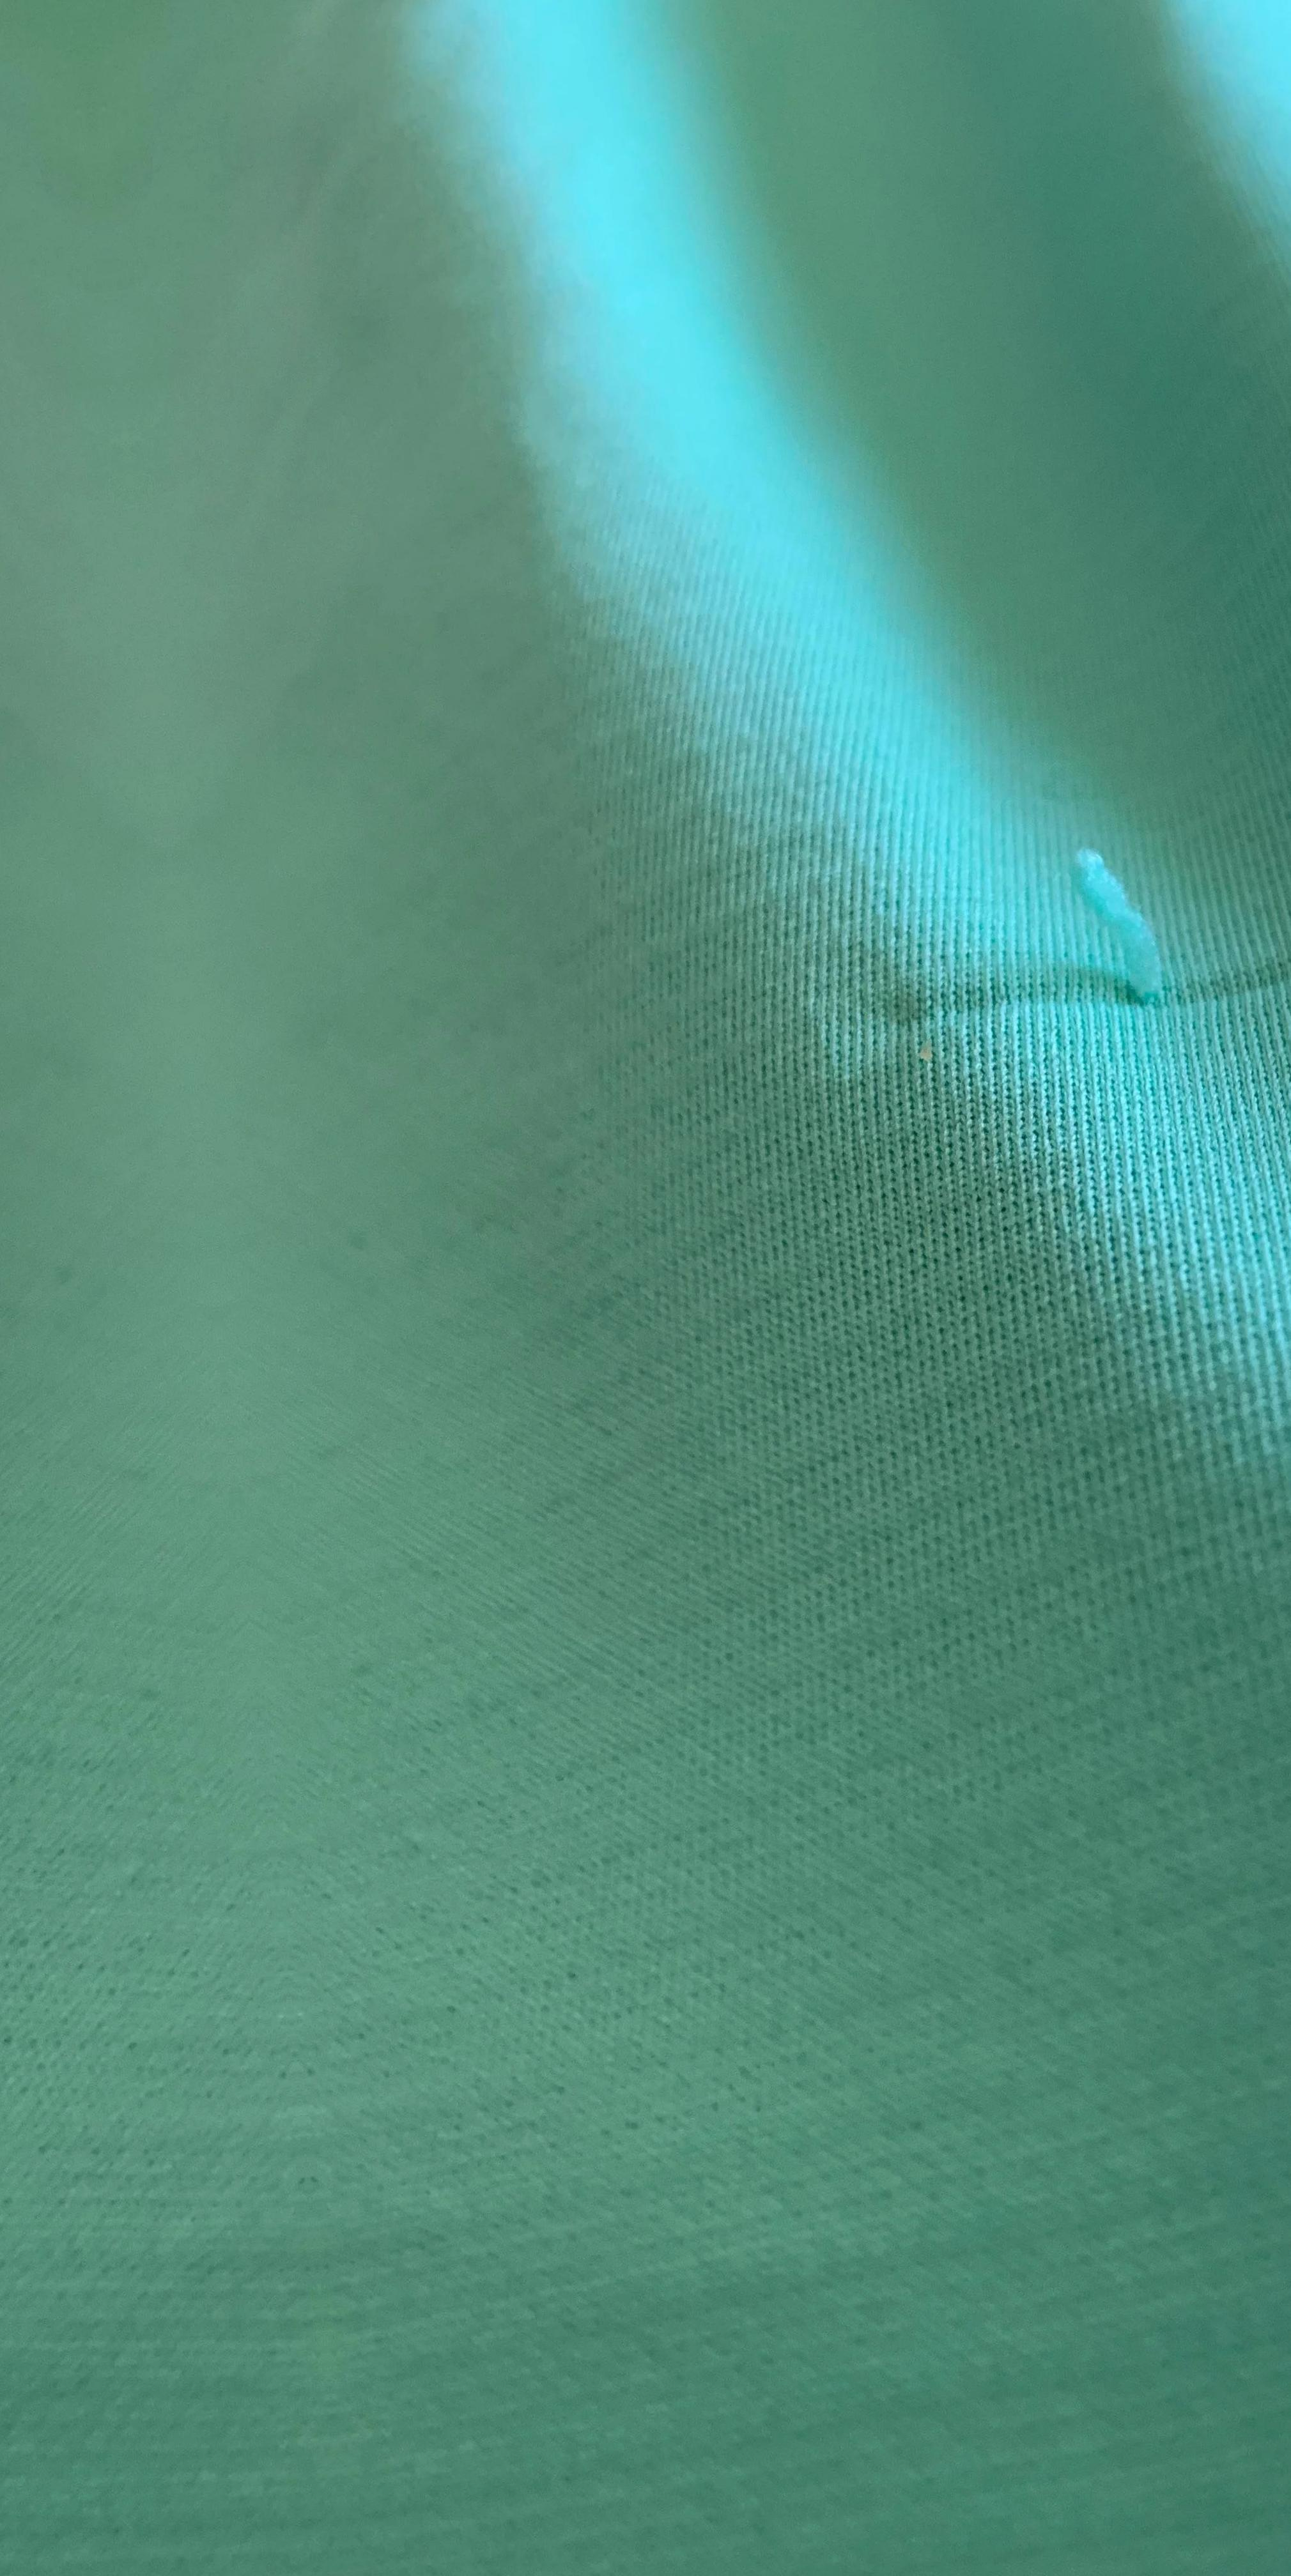snag: (1000, 790, 1240, 1085)
